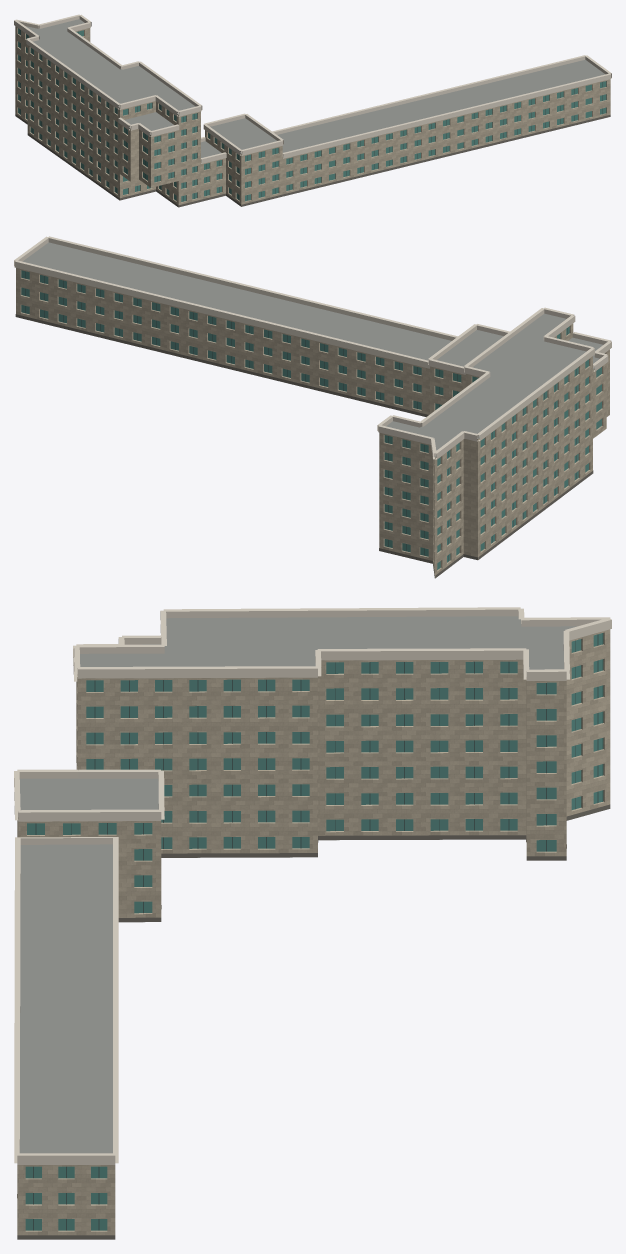
3 views of the same model, one above another, from view 1: azimuth 30°, elevation 25°; view 2: azimuth 150°, elevation 25°; view 3: azimuth 270°, elevation 25° (orthographic). The views are drawn at different scales.
Visible parts, largest first — view 1: humanities__wall, humanities__roof, humanities__trim, humanities__glass, humanities__base, humanities__frame; view 2: humanities__wall, humanities__roof, humanities__trim, humanities__glass, humanities__base, humanities__frame; view 3: humanities__wall, humanities__roof, humanities__glass, humanities__trim, humanities__base, humanities__frame.
Boxes of the visible parts, left/top/right/bottom form: humanities__wall: left=15, top=26, right=610, bottom=206; humanities__roof: left=26, top=19, right=605, bottom=161; humanities__trim: left=14, top=14, right=611, bottom=163; humanities__glass: left=18, top=28, right=606, bottom=201; humanities__base: left=15, top=114, right=610, bottom=207; humanities__frame: left=20, top=30, right=602, bottom=201; humanities__wall: left=16, top=268, right=609, bottom=577; humanities__roof: left=23, top=242, right=602, bottom=457; humanities__trim: left=14, top=236, right=611, bottom=459; humanities__glass: left=21, top=270, right=601, bottom=569; humanities__base: left=15, top=314, right=593, bottom=578; humanities__frame: left=25, top=271, right=576, bottom=561; humanities__wall: left=17, top=629, right=610, bottom=1235; humanities__roof: left=19, top=616, right=576, bottom=1153; humanities__glass: left=25, top=633, right=603, bottom=1230; humanities__trim: left=14, top=607, right=611, bottom=1164; humanities__base: left=17, top=804, right=610, bottom=1239; humanities__frame: left=33, top=634, right=598, bottom=1230.
Size of the model in its own units: 131 by 26.12 by 74.42.
Materials: 7 (1 with a texture image).
